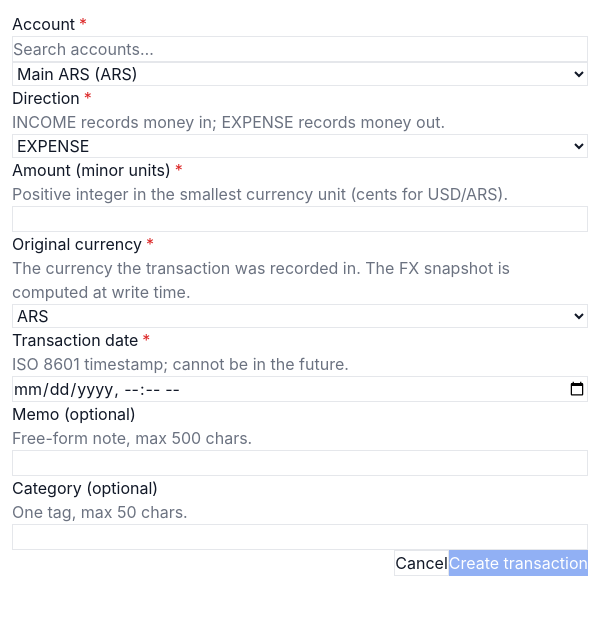
CreateTransactionForm — inline validation › surfaces an inline FieldError on accountId when the API returns ACCOUNT_ARCHIVED
Select "Main ARS (ARS)" in the dropdown with id "account-search-select": (300, 74) [12, 62, 588, 86]
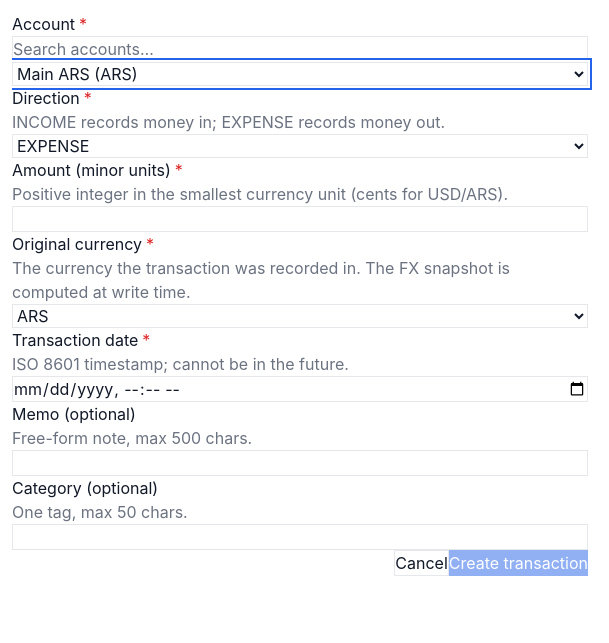
Select "EXPENSE" in the dropdown labelled "Direction*": (300, 146) [12, 134, 588, 158]
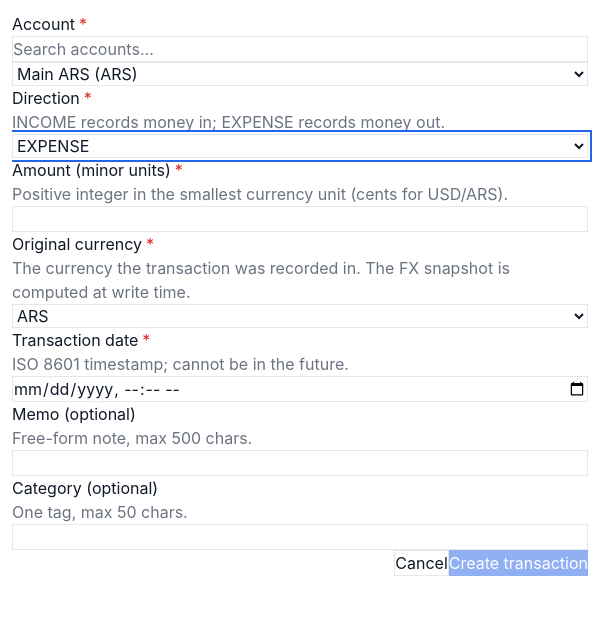
In the number field labelled "Amount (minor units)*": (300, 219) [12, 206, 588, 232], type "500"
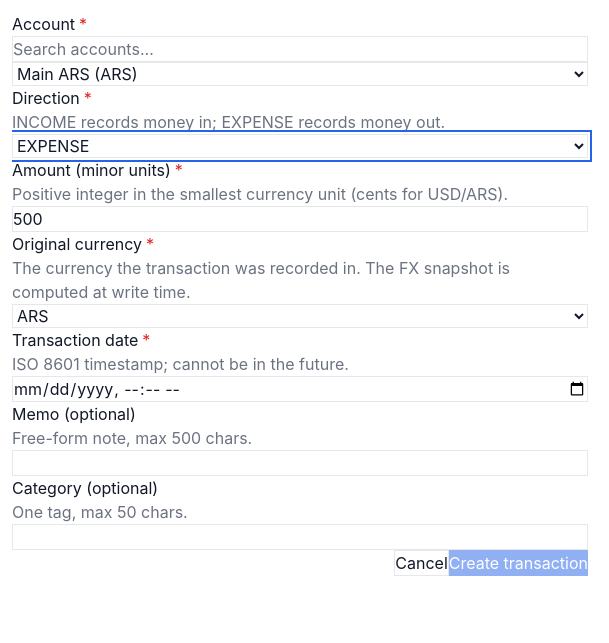
Select "ARS" in the dropdown labelled "Original currency*": (300, 316) [12, 304, 588, 328]
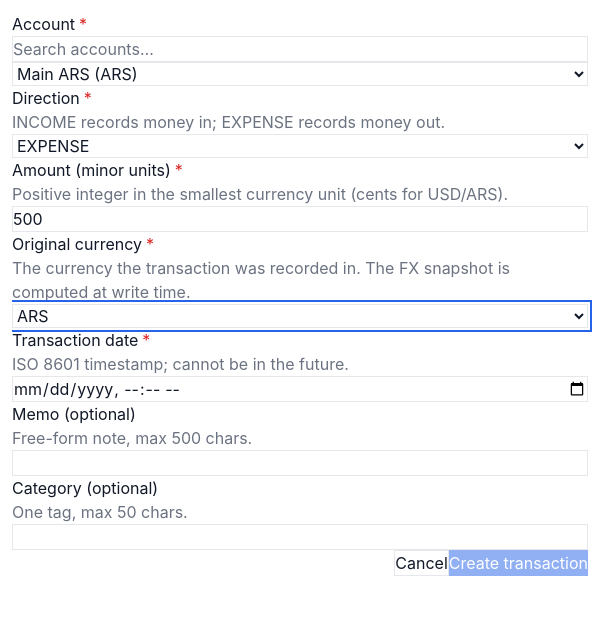
In the field labelled "Transaction date*": (300, 389) [12, 376, 588, 402], type "2026-06-15T08:00"
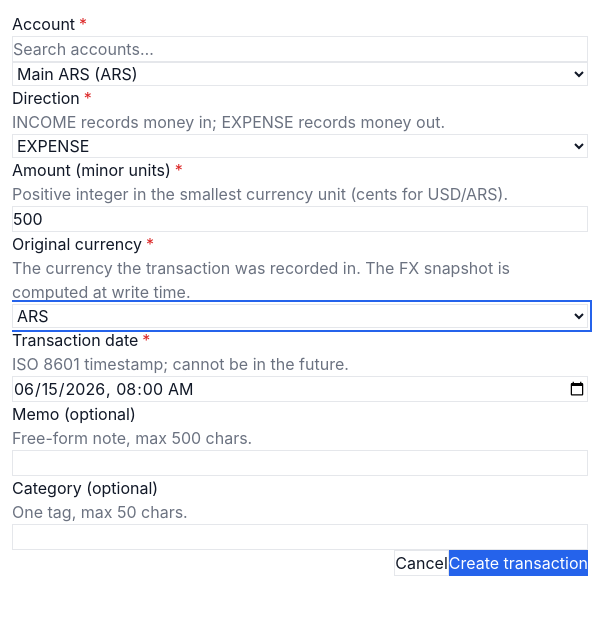
Click the button "Create transaction": (518, 563) [449, 550, 588, 576]
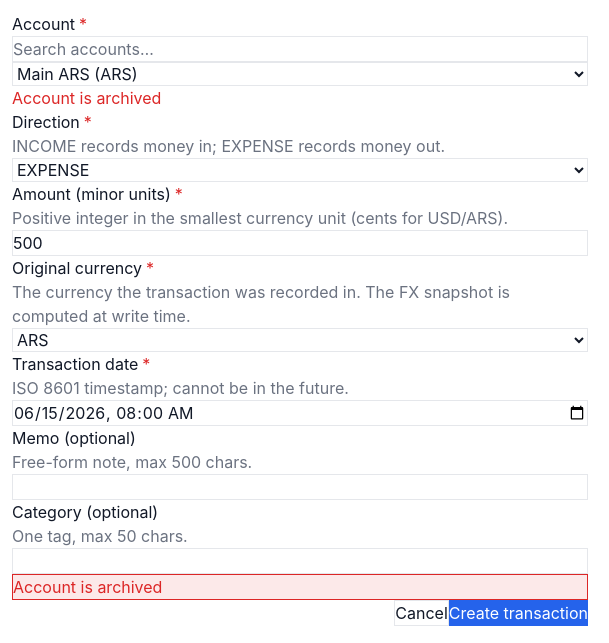
expect the message with id "account-search-error" reads "Account is archived": met, box [12, 88, 161, 108]
